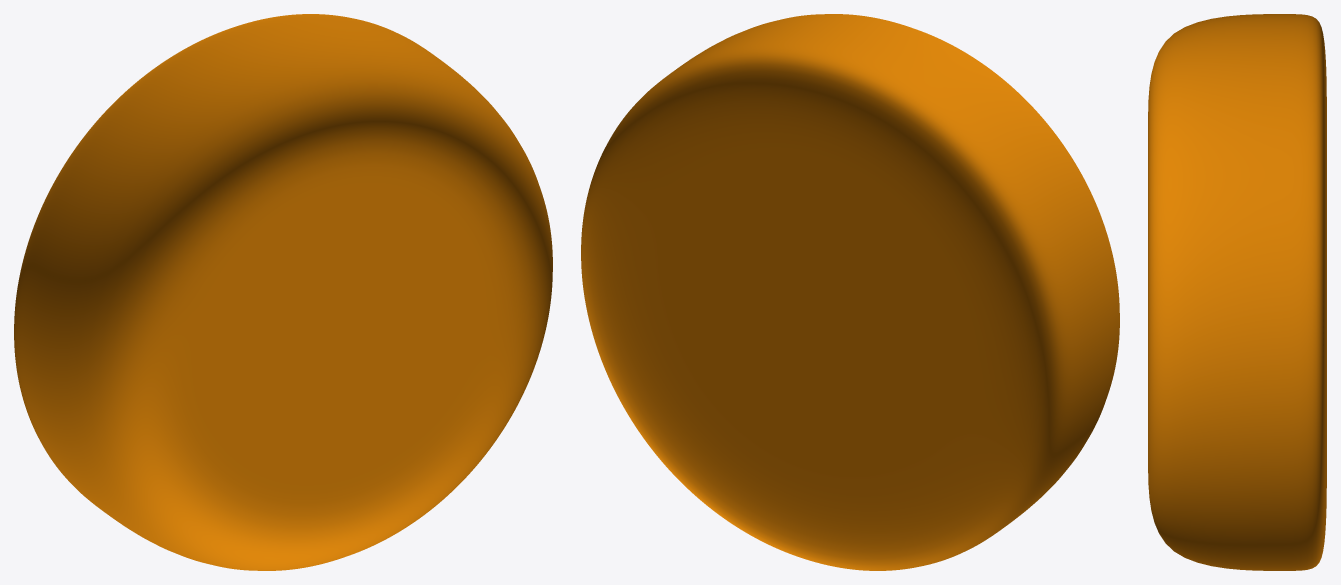
The model's file is Pan_Abajo.glb.
The picture shows the model from 3 angles, left to right: view 1: azimuth 30°, elevation 25°; view 2: azimuth 150°, elevation 25°; view 3: azimuth 270°, elevation 25°; orthographic projection.
Parts seen in each view (by area): view 1: imagetostl_mesh0; view 2: imagetostl_mesh0; view 3: imagetostl_mesh0.
Part boxes in pixels (<box>): imagetostl_mesh0: <box>14,14,552,570</box>; imagetostl_mesh0: <box>581,14,1119,570</box>; imagetostl_mesh0: <box>1148,14,1326,570</box>.
Bounding box in the file's own units: 0.301 × 0.301 × 0.0967.
